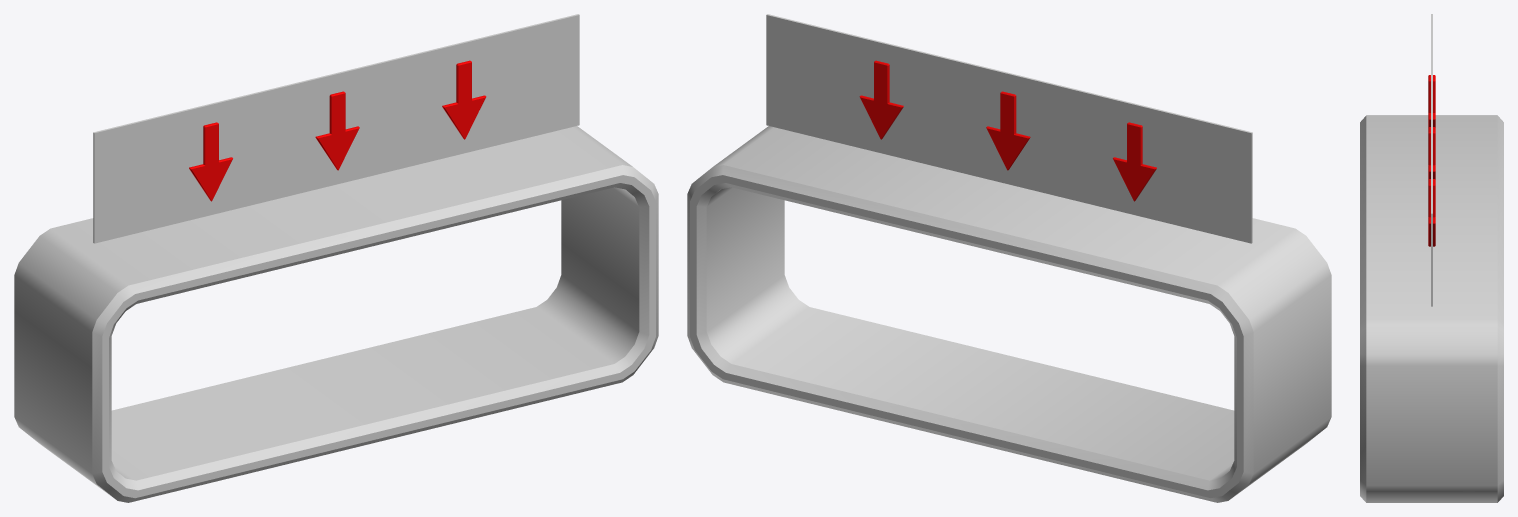
The model's file is obstacle_03.glb.
3 views of the same model, side by side, from view 1: azimuth 30°, elevation 25°; view 2: azimuth 150°, elevation 25°; view 3: azimuth 270°, elevation 25° (orthographic). The views are drawn at different scales.
Visible parts, largest first — view 1: Box001, Box002, arrow001, arrow003, arrow002; view 2: Box001, Box002, arrow001, arrow002, arrow003; view 3: Box001, Box002, arrow002, arrow001, arrow003.
Part boxes in pixels (x1=…): Box001: x1=14, y1=126, x2=658, y2=502; Box002: x1=93, y1=14, x2=579, y2=243; arrow001: x1=315, y1=91, x2=359, y2=170; arrow003: x1=189, y1=122, x2=232, y2=201; arrow002: x1=442, y1=60, x2=486, y2=139; Box001: x1=687, y1=126, x2=1331, y2=502; Box002: x1=766, y1=14, x2=1252, y2=243; arrow001: x1=986, y1=91, x2=1030, y2=170; arrow002: x1=859, y1=60, x2=903, y2=139; arrow003: x1=1113, y1=122, x2=1156, y2=201; Box001: x1=1360, y1=115, x2=1503, y2=502; Box002: x1=1431, y1=14, x2=1432, y2=306; arrow002: x1=1428, y1=179, x2=1435, y2=246; arrow001: x1=1428, y1=127, x2=1435, y2=179; arrow003: x1=1428, y1=75, x2=1435, y2=127.
Size of the model in its own units: 2.68 by 1.54 by 0.7.
